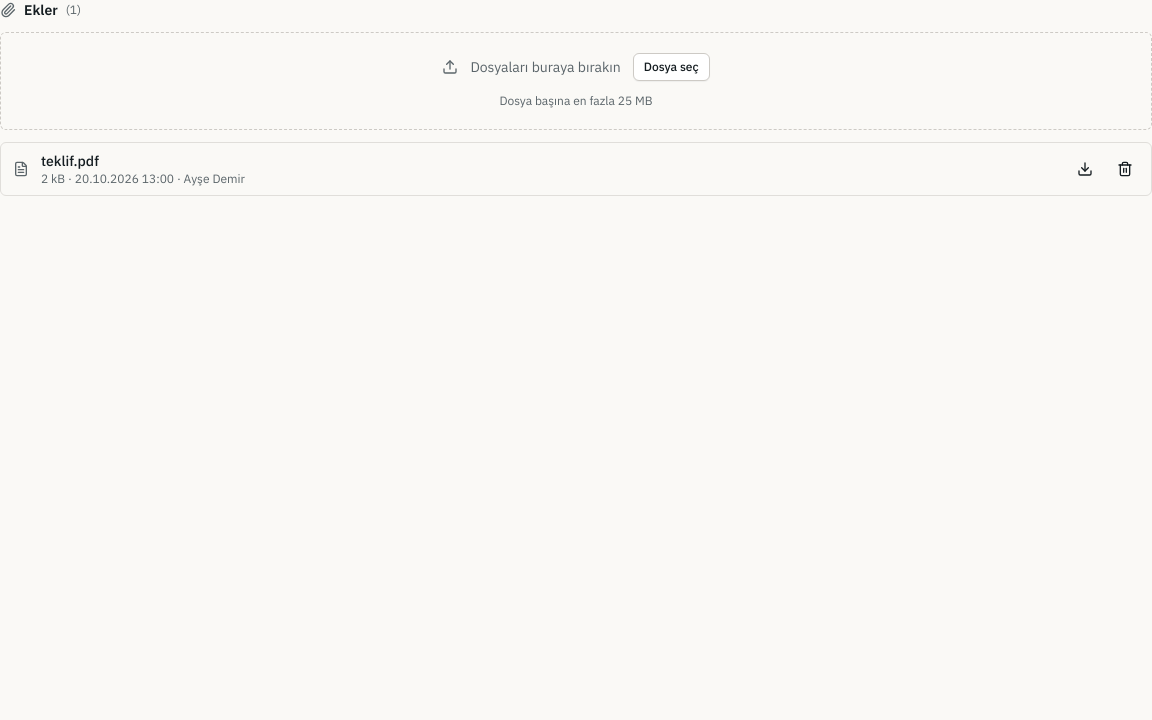
Test: AttachmentPanel › deletes after confirmation via DELETE /files/{id}
Click the button named "teklif.pdf dosyasını sil": (1125, 169) [1111,155,1139,183]
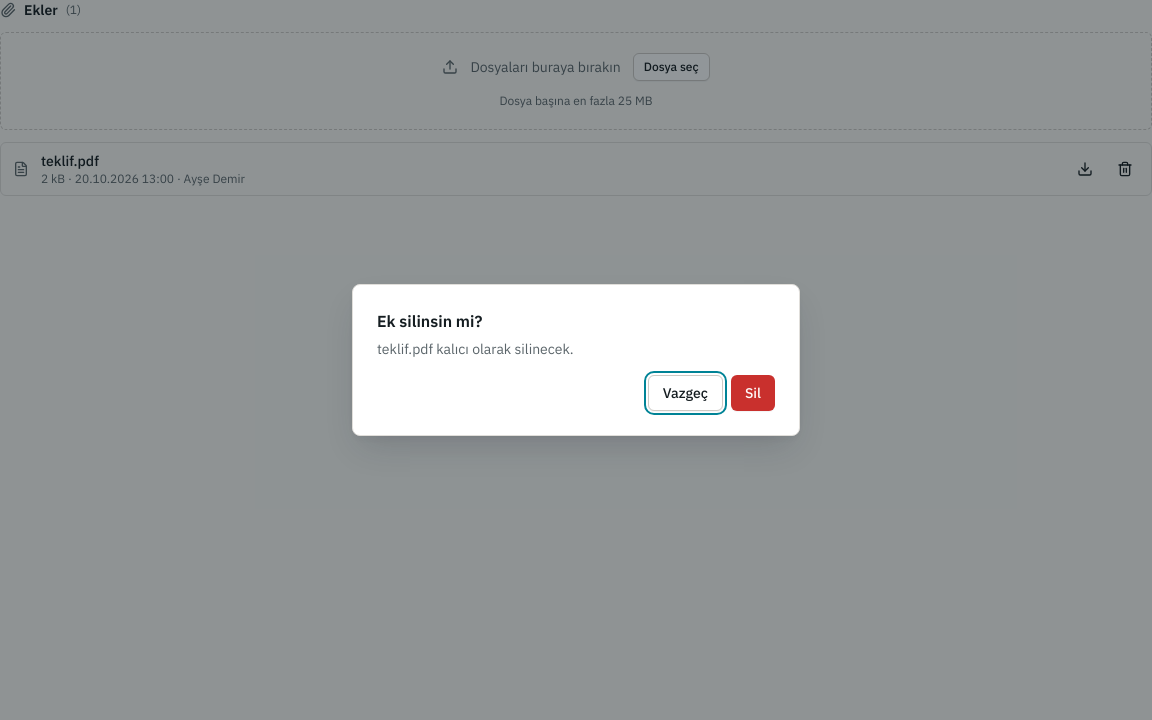
Result: the dialog shows "teklif.pdf kalıcı olarak silinecek." at [377,340,574,358]
Click the button "Sil": (753, 393) [731,375,775,411]
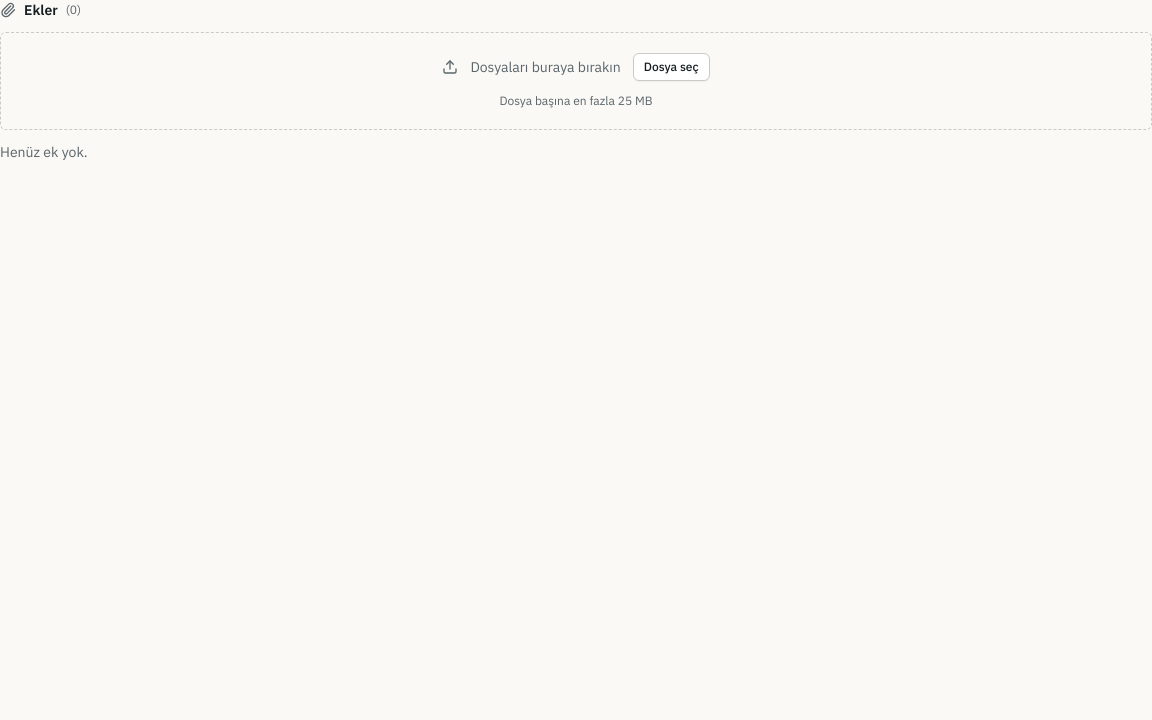
Result: the link "teklif.pdf" is gone
Result: the dialog is gone
